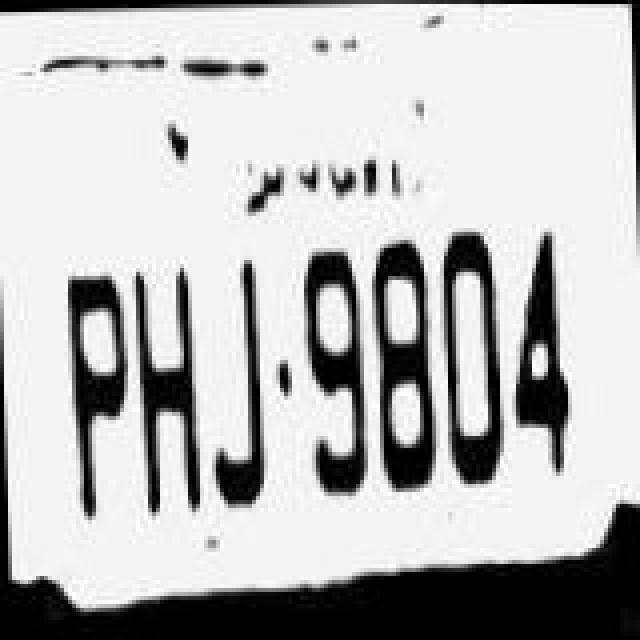4: (504, 218, 588, 486)
8: (366, 232, 446, 504)
9: (290, 236, 370, 520)
H: (120, 248, 204, 524)
J: (198, 246, 278, 514)
O: (434, 220, 514, 500)
P: (42, 256, 130, 528)
